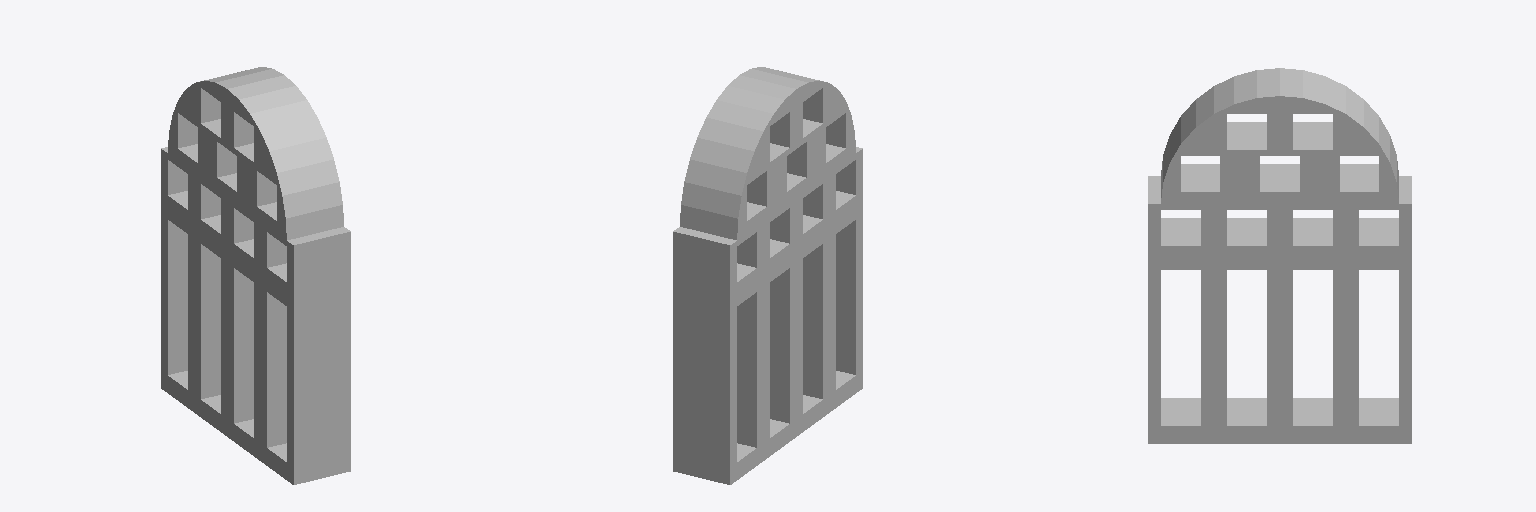
Rendered from window5.obj.
3 renders of one model, left to right at view 1: azimuth 30°, elevation 25°; view 2: azimuth 150°, elevation 25°; view 3: azimuth 270°, elevation 25°, orthographic.
Parts seen in each view (by area): view 1: Cylinder_Cylinder.002; view 2: Cylinder_Cylinder.002; view 3: Cylinder_Cylinder.002.
Part boxes in pixels (bbox=[...]): Cylinder_Cylinder.002: bbox=[161, 67, 350, 484]; Cylinder_Cylinder.002: bbox=[673, 67, 862, 484]; Cylinder_Cylinder.002: bbox=[1148, 68, 1411, 443].
Bounding box in the file's own units: 1 × 5.8 × 4.